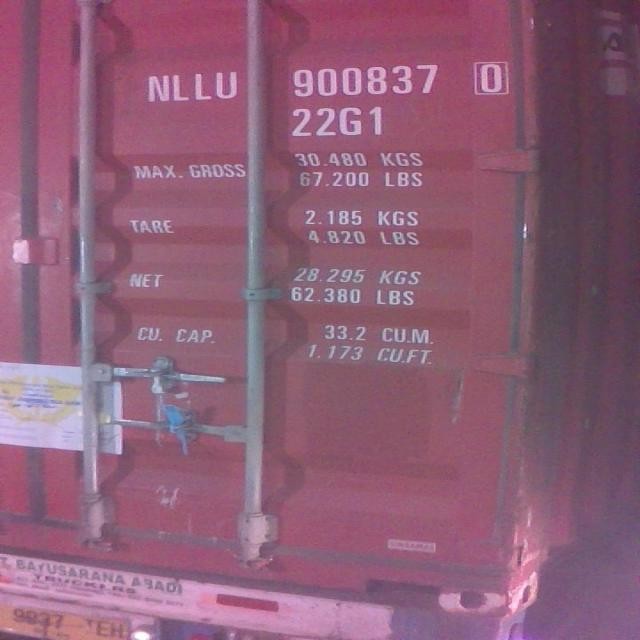seal: (162, 404, 202, 452), (144, 366, 170, 393)
